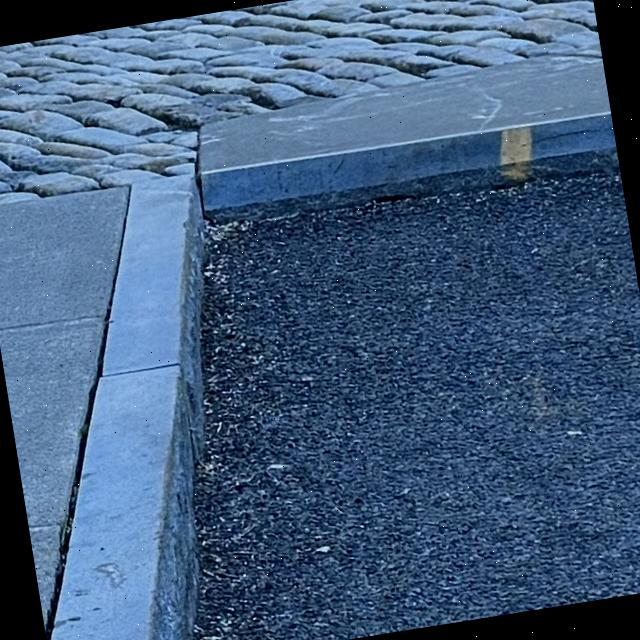curb: (50, 180, 204, 640), (199, 58, 616, 211)
